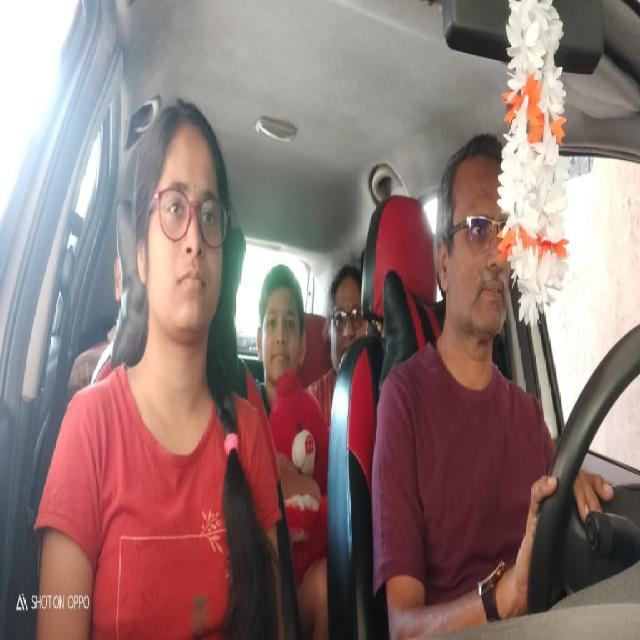person: (127, 88, 237, 350), (435, 108, 521, 370), (257, 254, 308, 412), (323, 236, 371, 397)
